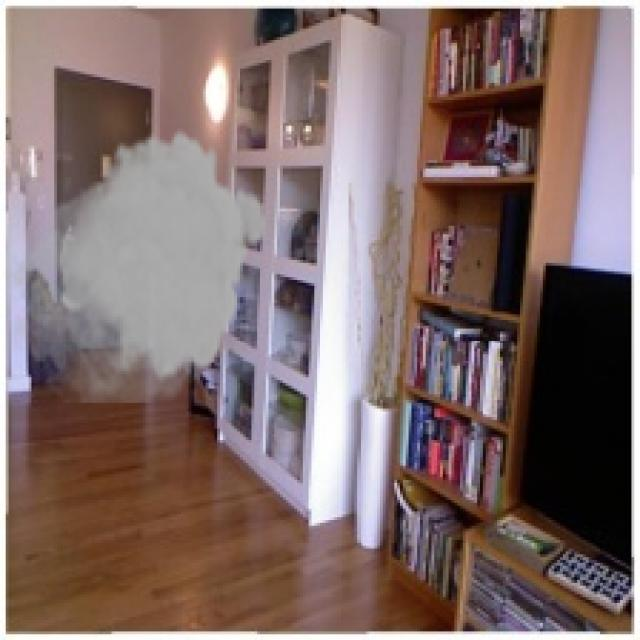smoke: (3, 126, 268, 403)
